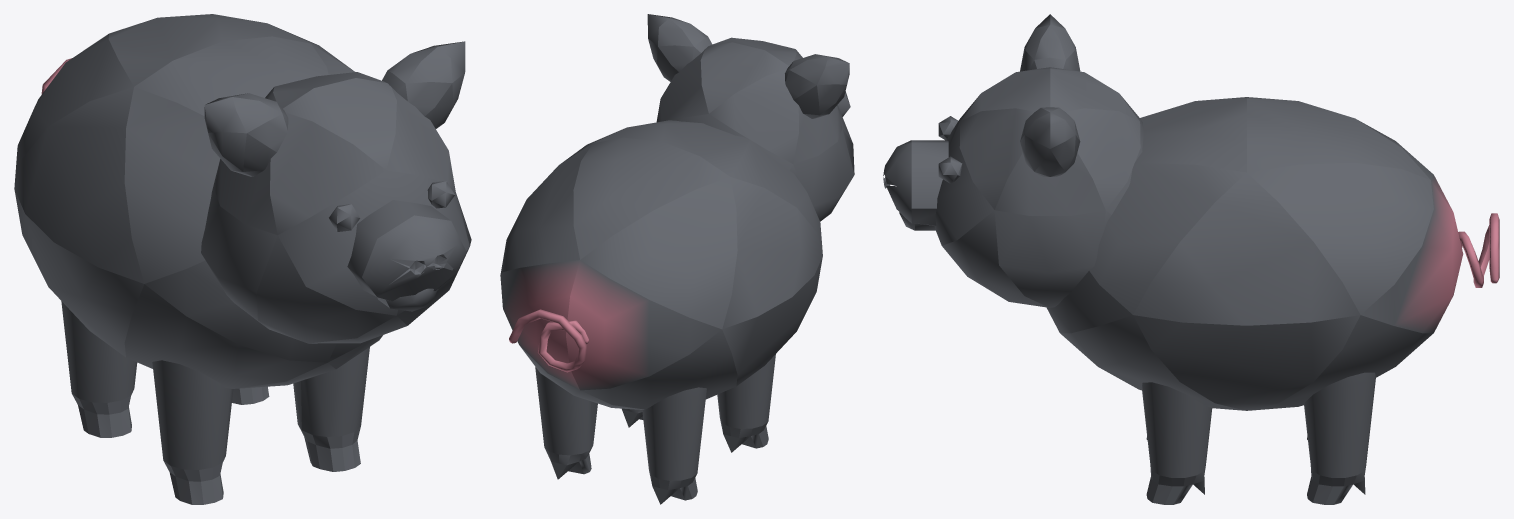
The model's file is Pig_PolyByGoogle.glb.
The picture shows the model from 3 angles, left to right: view 1: azimuth 30°, elevation 25°; view 2: azimuth 150°, elevation 25°; view 3: azimuth 270°, elevation 25°; orthographic projection. The views are drawn at different scales.
Visible parts, largest first — view 1: Null1; view 2: Null1; view 3: Null1.
Part boxes in pixels (bbox=[...]): Null1: bbox=[14, 14, 471, 504]; Null1: bbox=[500, 14, 854, 504]; Null1: bbox=[883, 14, 1499, 504].
Size of the model in its own units: 198 by 256 by 359.
